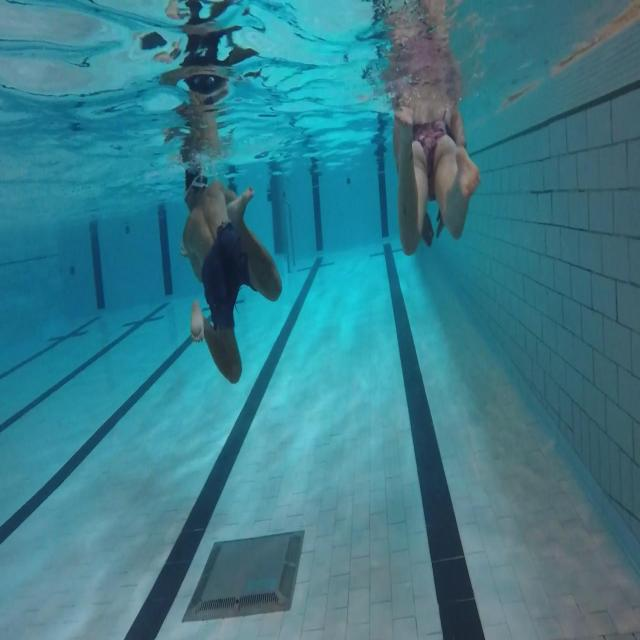human: (379, 0, 481, 255), (179, 162, 282, 384)
